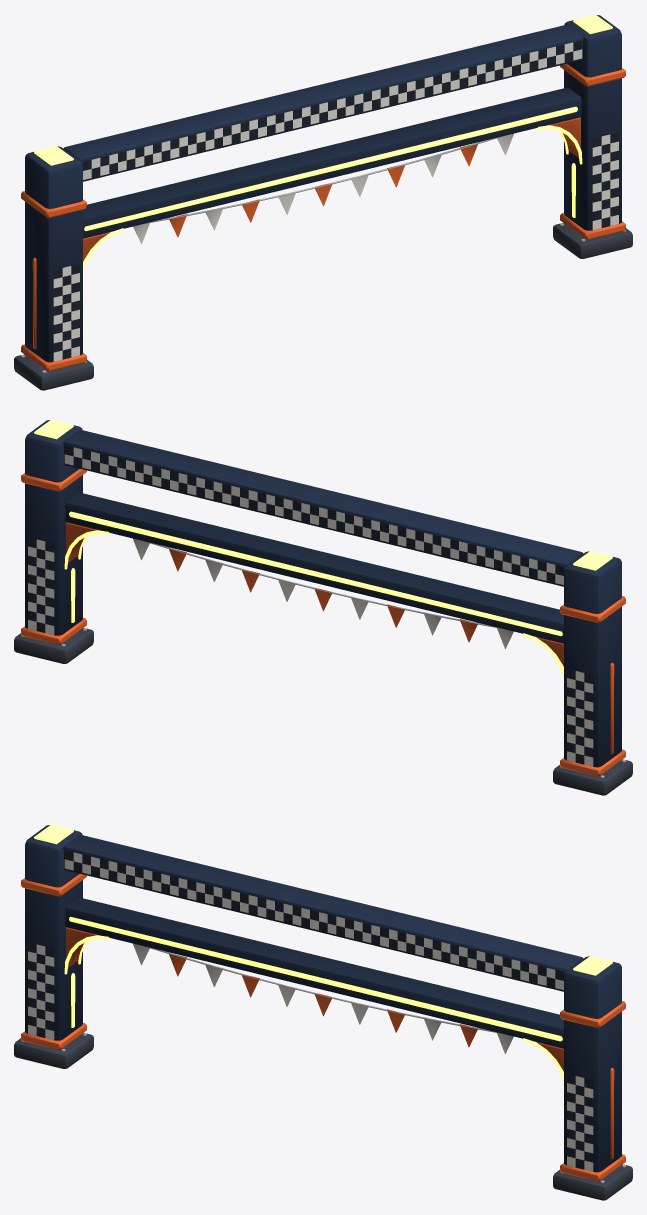
The model's file is gate.glb.
3 renders of one model, top to bottom at view 1: azimuth 30°, elevation 25°; view 2: azimuth 150°, elevation 25°; view 3: azimuth 330°, elevation 25°, orthographic.
Visible parts, largest first — view 1: Gate Gate navy, Gate Gate ivory, Gate Gate checker dark, Gate Gate lime light, Gate Gate orange, Gate Gate base, Gate Gate steel; view 2: Gate Gate navy, Gate Gate ivory, Gate Gate checker dark, Gate Gate lime light, Gate Gate orange, Gate Gate base, Gate Gate steel; view 3: Gate Gate navy, Gate Gate ivory, Gate Gate checker dark, Gate Gate lime light, Gate Gate orange, Gate Gate base, Gate Gate steel.
Part boxes in pixels (<box>): Gate Gate navy: <box>25,15,621,362</box>; Gate Gate ivory: <box>53,42,618,361</box>; Gate Gate checker dark: <box>53,40,618,359</box>; Gate Gate lime light: <box>34,14,612,271</box>; Gate Gate orange: <box>21,64,625,371</box>; Gate Gate base: <box>14,223,632,390</box>; Gate Gate steel: <box>21,136,625,373</box>; Gate Gate navy: <box>25,420,621,767</box>; Gate Gate ivory: <box>28,447,593,766</box>; Gate Gate checker dark: <box>28,445,593,764</box>; Gate Gate lime light: <box>34,419,612,676</box>; Gate Gate orange: <box>21,469,625,776</box>; Gate Gate base: <box>14,628,632,795</box>; Gate Gate steel: <box>21,541,625,778</box>; Gate Gate navy: <box>25,825,621,1172</box>; Gate Gate ivory: <box>28,852,593,1171</box>; Gate Gate checker dark: <box>28,850,593,1169</box>; Gate Gate lime light: <box>34,824,612,1081</box>; Gate Gate orange: <box>21,874,625,1181</box>; Gate Gate base: <box>14,1033,632,1200</box>; Gate Gate steel: <box>21,946,625,1183</box>.
Size of the model in its own units: 17.6 by 6.27 by 1.5.
